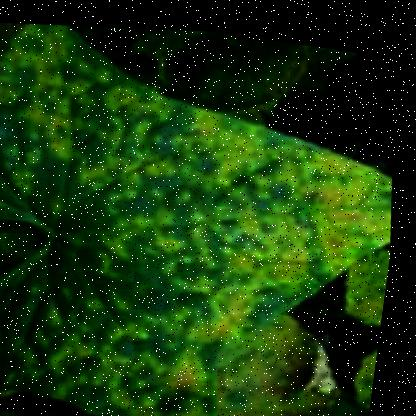DownyMildew: (0, 19, 414, 415)
